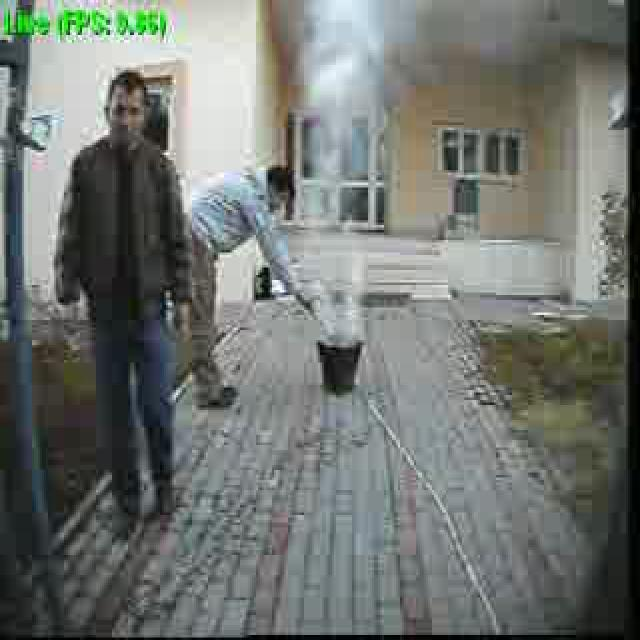Smoke: (306, 7, 376, 354)
